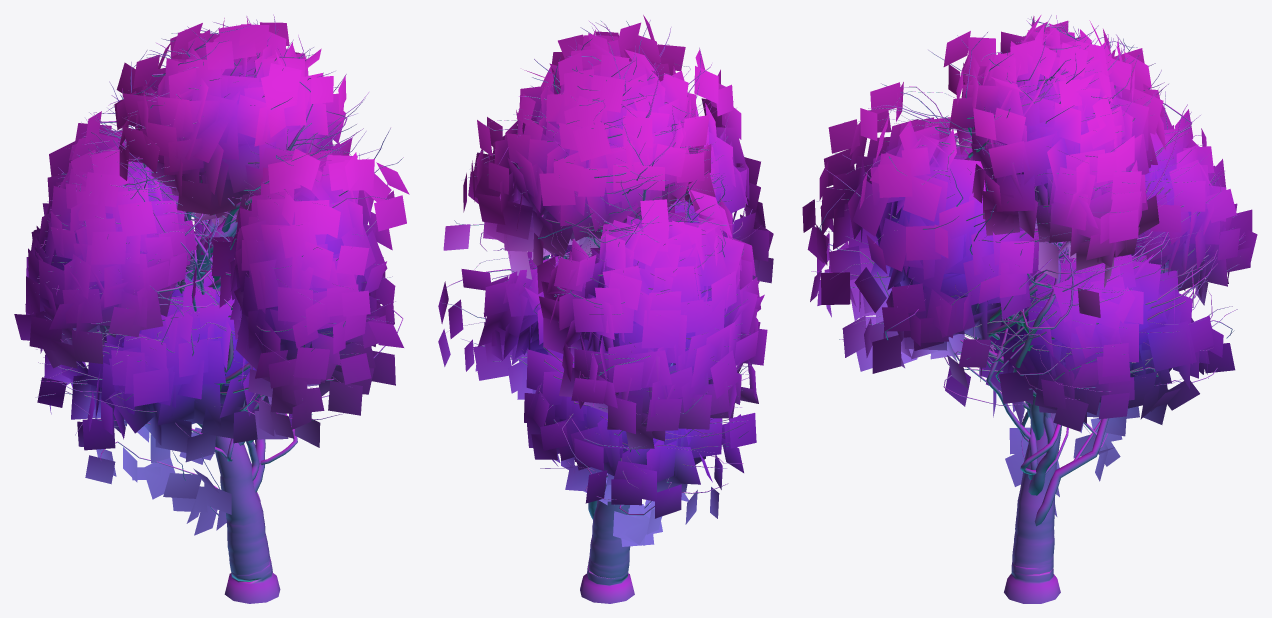
Rendered from tree_birch_s7_a60_x10_wild.fbx.
3 views of the same model, side by side, from view 1: azimuth 30°, elevation 25°; view 2: azimuth 150°, elevation 25°; view 3: azimuth 270°, elevation 25° (orthographic).
Parts seen in each view (by area): view 1: tree_birch_s7_a60_x10_wild_leaves, tree_birch_s7_a60_x10_wild_branches; view 2: tree_birch_s7_a60_x10_wild_leaves, tree_birch_s7_a60_x10_wild_branches; view 3: tree_birch_s7_a60_x10_wild_leaves, tree_birch_s7_a60_x10_wild_branches.
Part boxes in pixels (x1,y1,x2,y2): tree_birch_s7_a60_x10_wild_leaves: (14,17,409,535); tree_birch_s7_a60_x10_wild_branches: (32,14,403,603); tree_birch_s7_a60_x10_wild_leaves: (438,15,773,546); tree_birch_s7_a60_x10_wild_branches: (441,20,760,603); tree_birch_s7_a60_x10_wild_leaves: (802,15,1257,516); tree_birch_s7_a60_x10_wild_branches: (809,15,1245,603).
Size of the model in its own units: 6.04 by 10.09 by 7.35.
